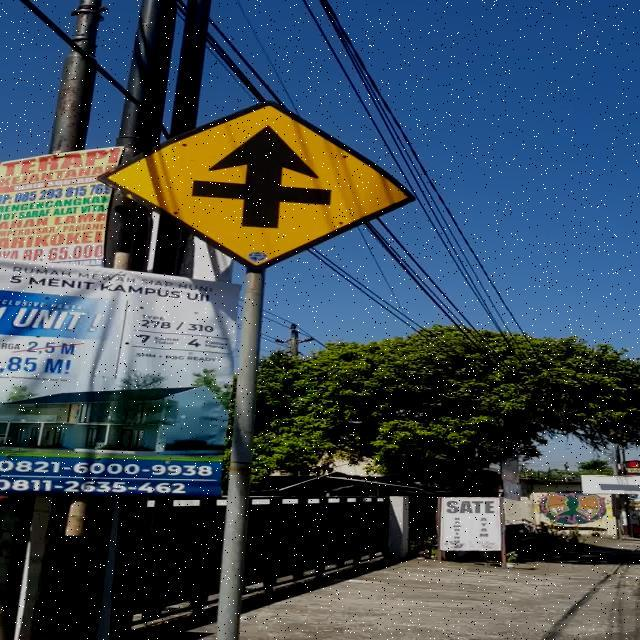Persimpangan 3 Prioritas: (96, 100, 417, 272)
